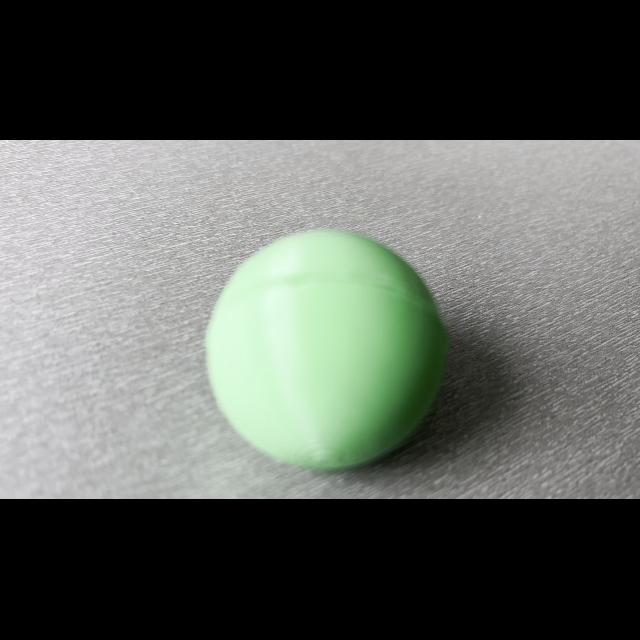objects: (187, 208, 465, 480)
